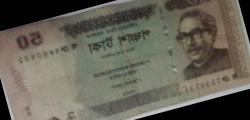50 taka: (14, 1, 238, 112)
